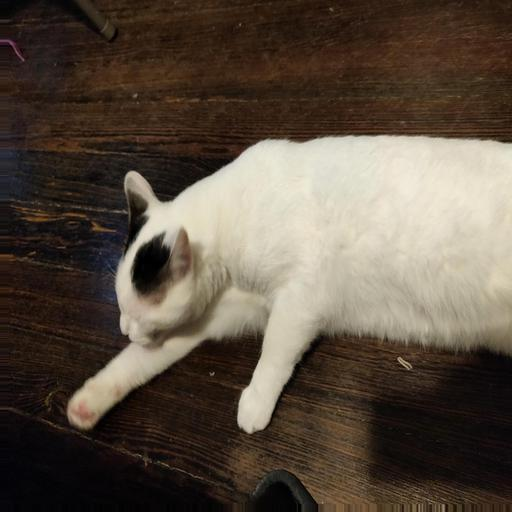cat: (66, 66, 504, 504)
